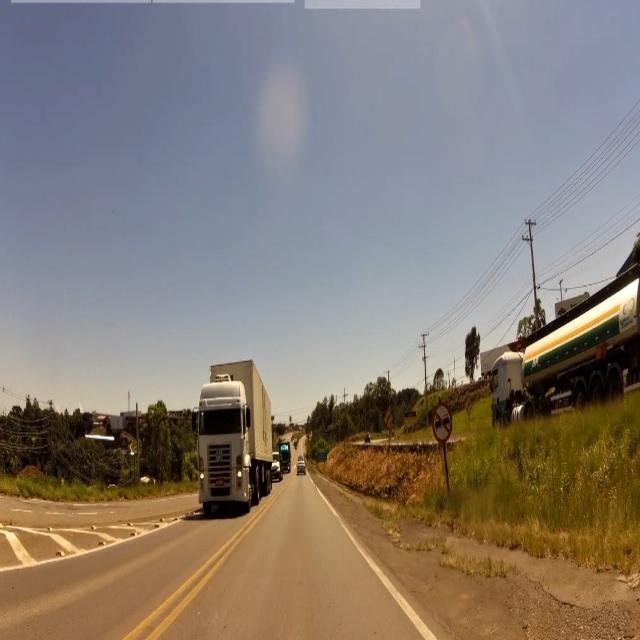R-7: (432, 402, 451, 443)
